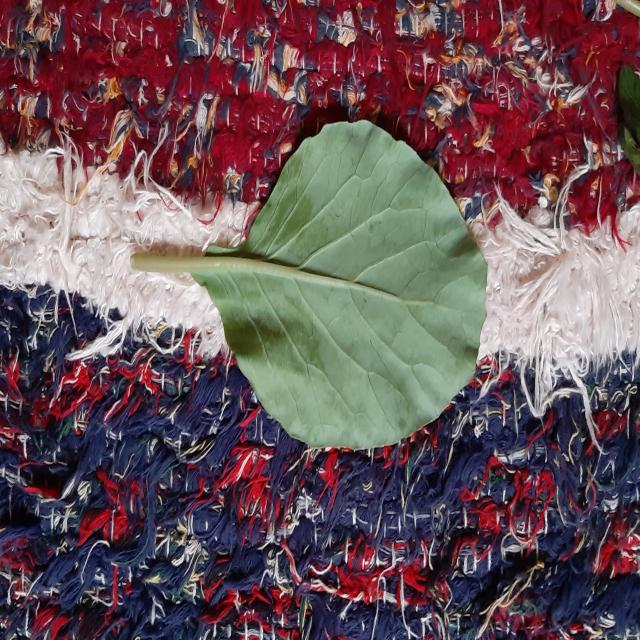neem: (131, 120, 486, 449)
